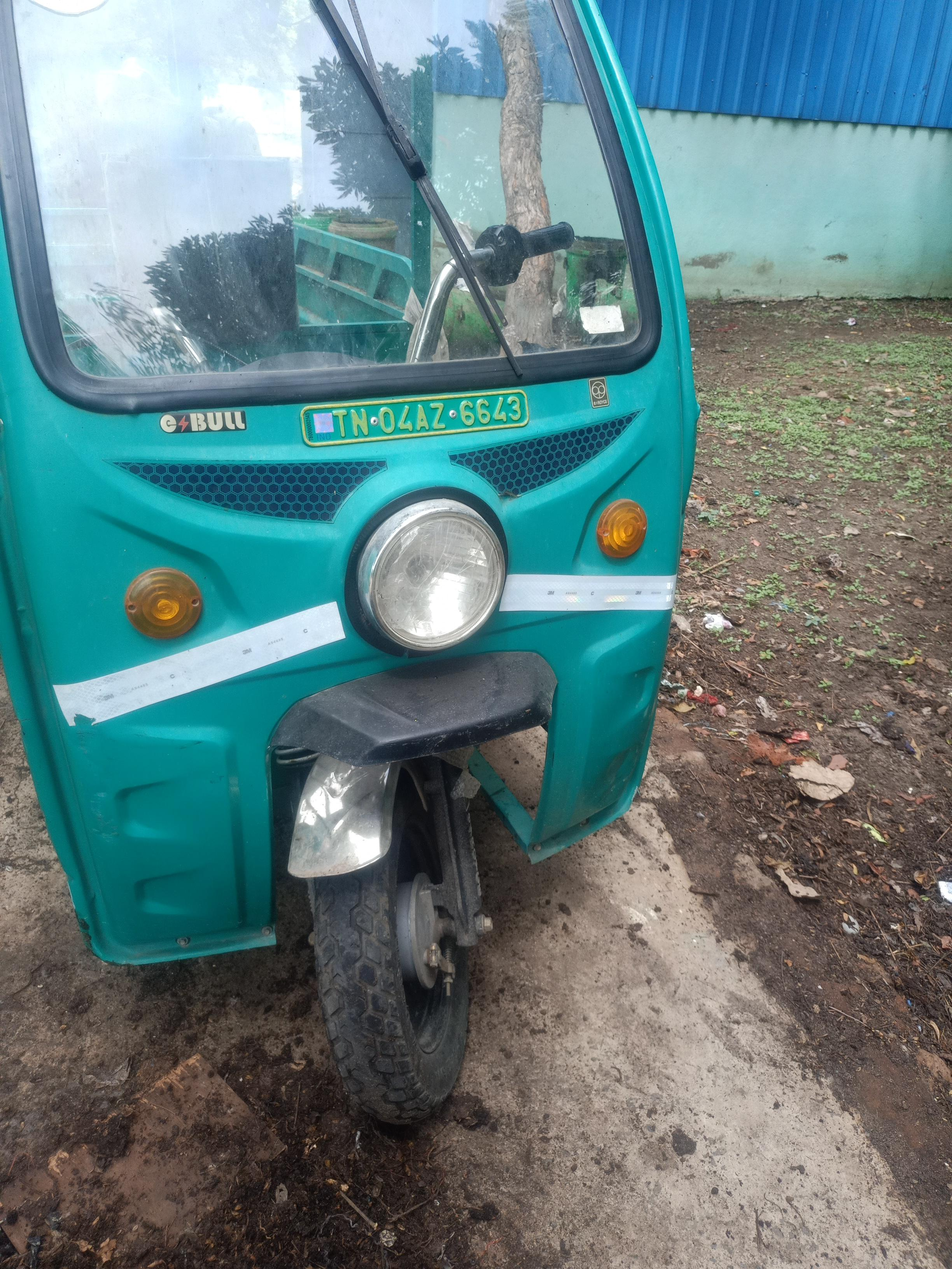green license plate: (298, 385, 530, 444)
